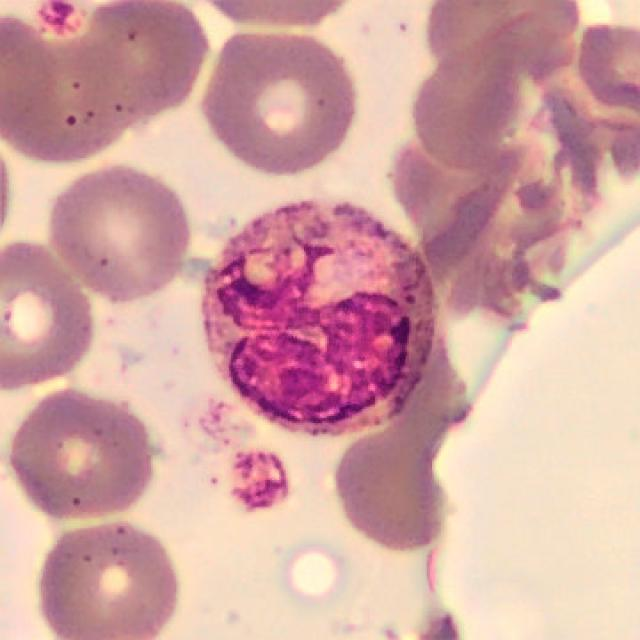Neutrofilo segmentado: (199, 197, 443, 439)
